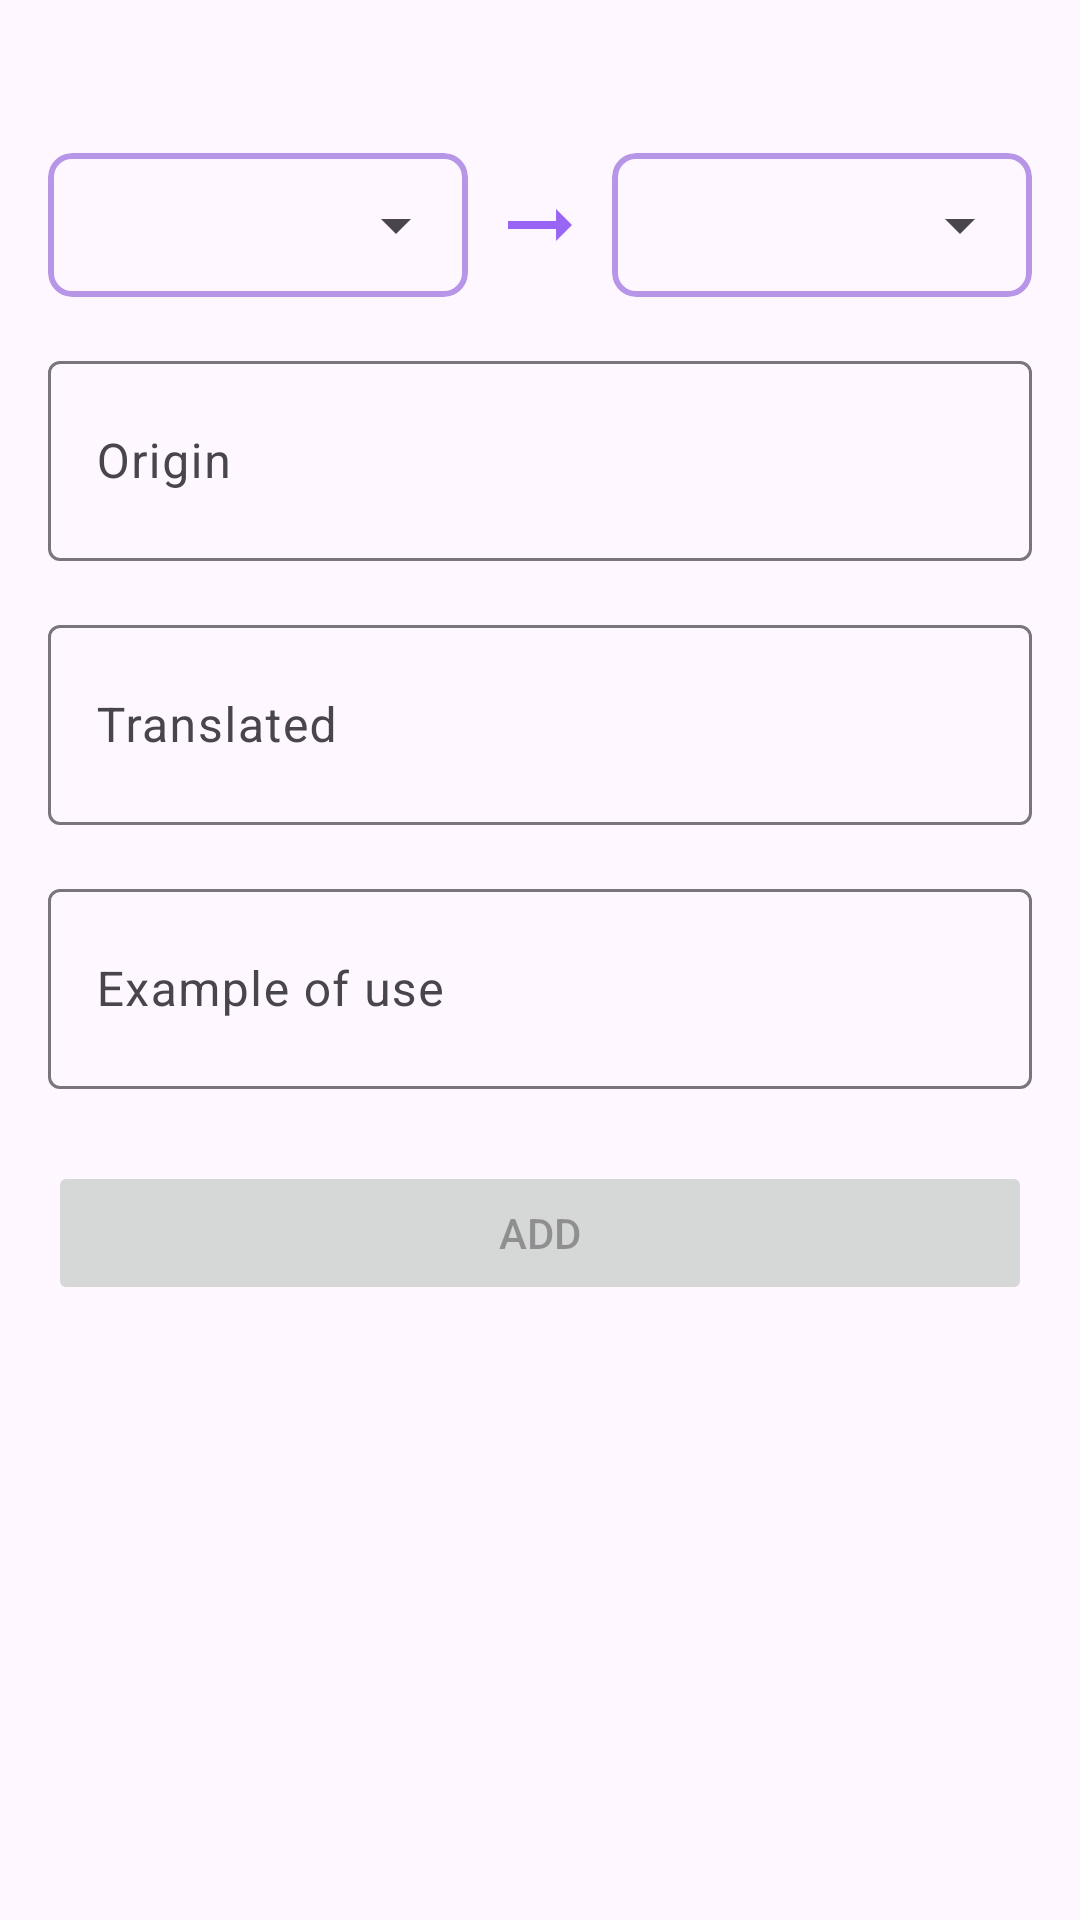

Icons on this 1080px x 1920px Android screen, each with the point to tap as (x,y):
Shows which language is being translated from which language: (540,225)
